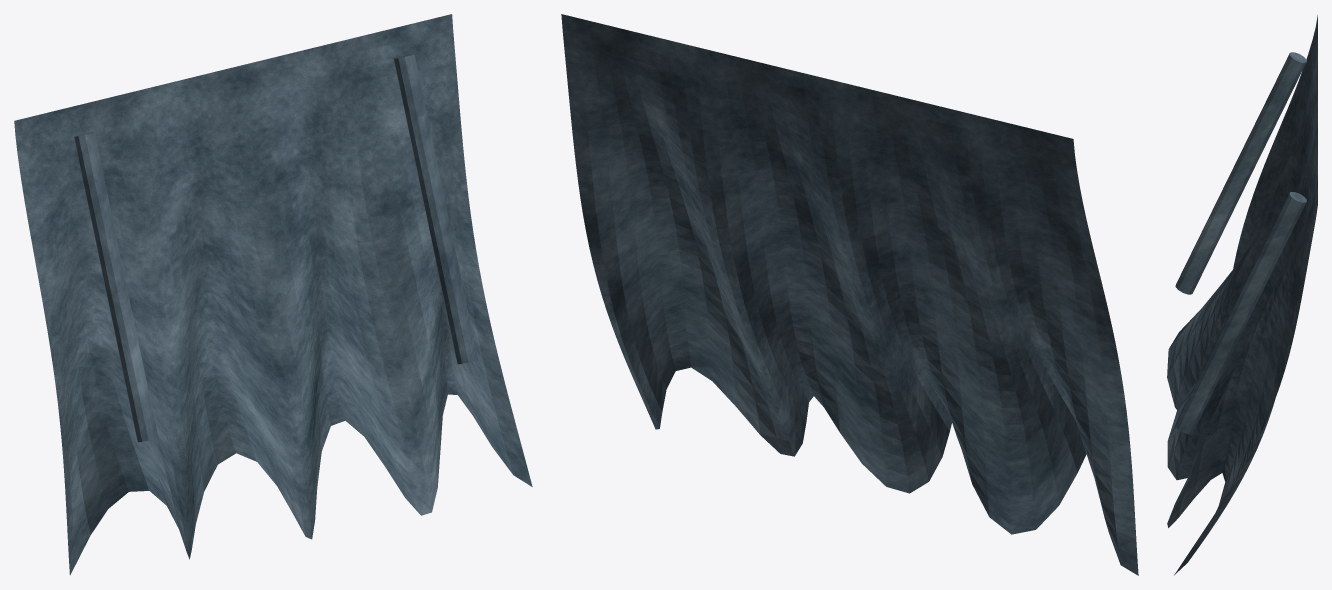
The model's file is KAL-01_v03_Draped_Jacket.glb.
3 renders of one model, left to right at view 1: azimuth 30°, elevation 25°; view 2: azimuth 150°, elevation 25°; view 3: azimuth 270°, elevation 25°, orthographic. The views are drawn at different scales.
Parts seen in each view (by area): view 1: MAT_Cloth; view 2: MAT_Cloth; view 3: MAT_Cloth.
Boxes of the visible parts, x1,y1,x2,y2 form: MAT_Cloth: (14, 14, 532, 575); MAT_Cloth: (561, 14, 1138, 575); MAT_Cloth: (1167, 15, 1317, 575).
Size of the model in its own units: 1.15 by 1.04 by 0.3835.
1 material, 1 textured.
